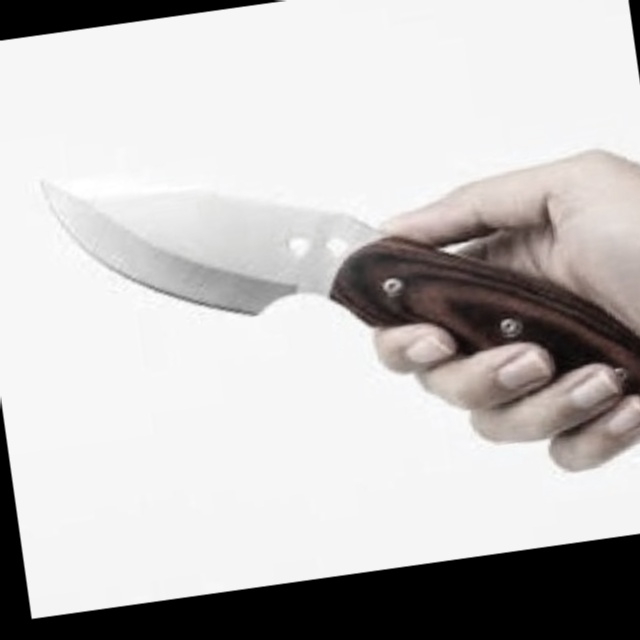Sharp-Object: (39, 99, 640, 505)
